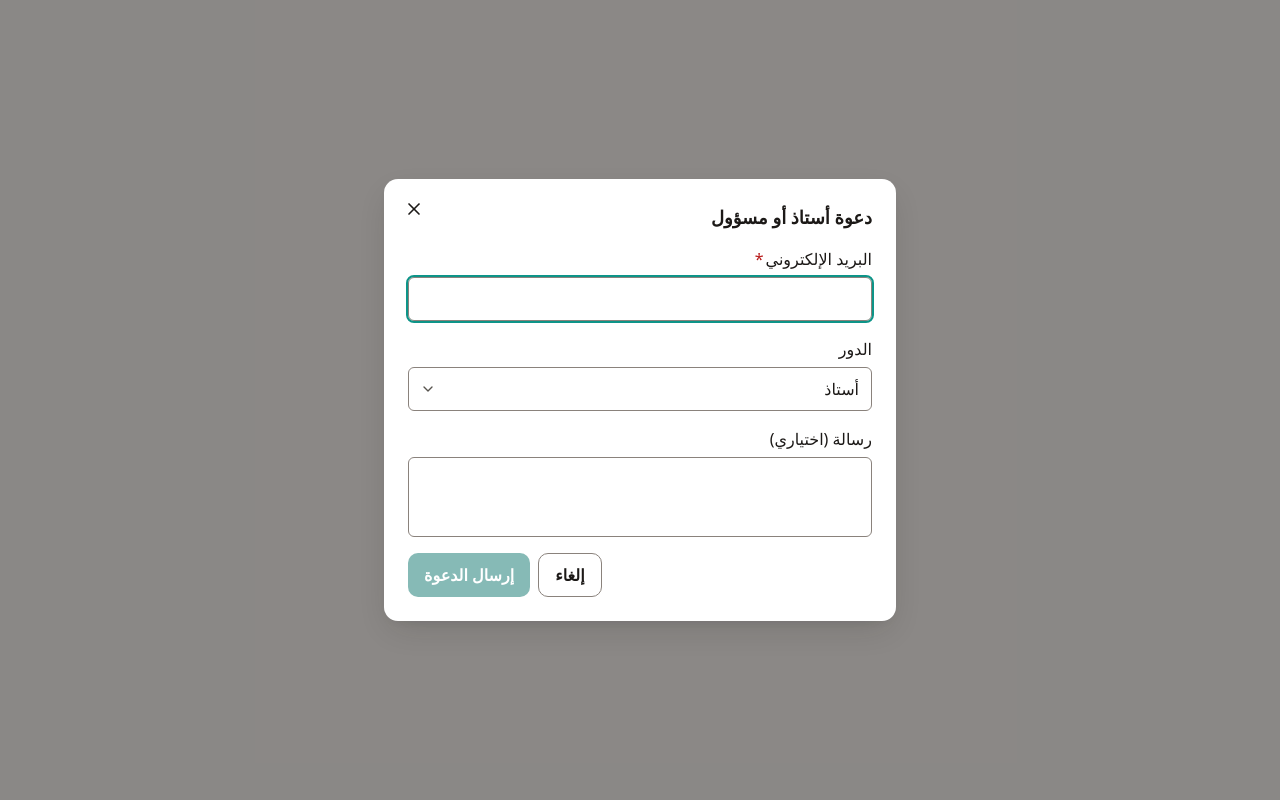
it: InviteStaffDialog › a 403 (no staff management) is a form alert, translated
Step 1. Type "sara@example.com" into the field labelled "البريد الإلكتروني" → (640, 299), box [408,277,872,321]
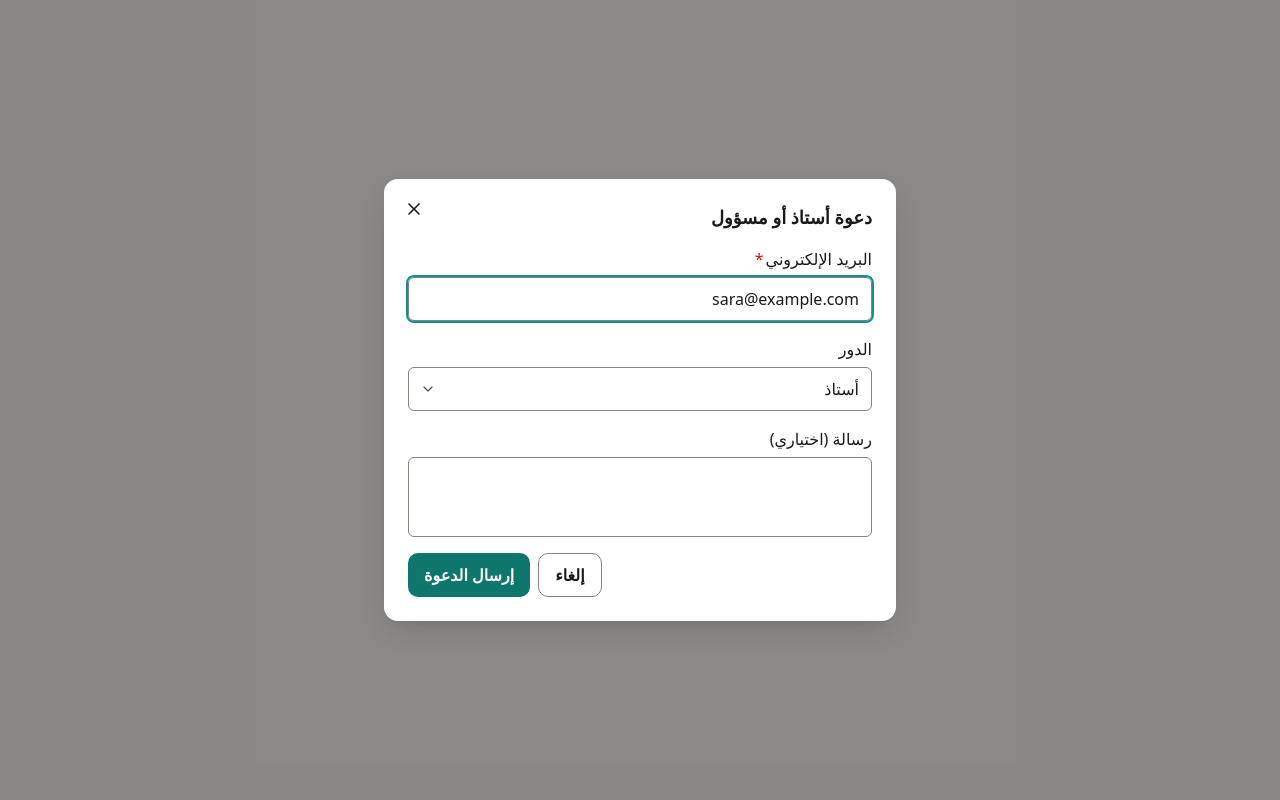
Step 2. Click the button "إرسال الدعوة" → (469, 575), box [408,553,530,597]
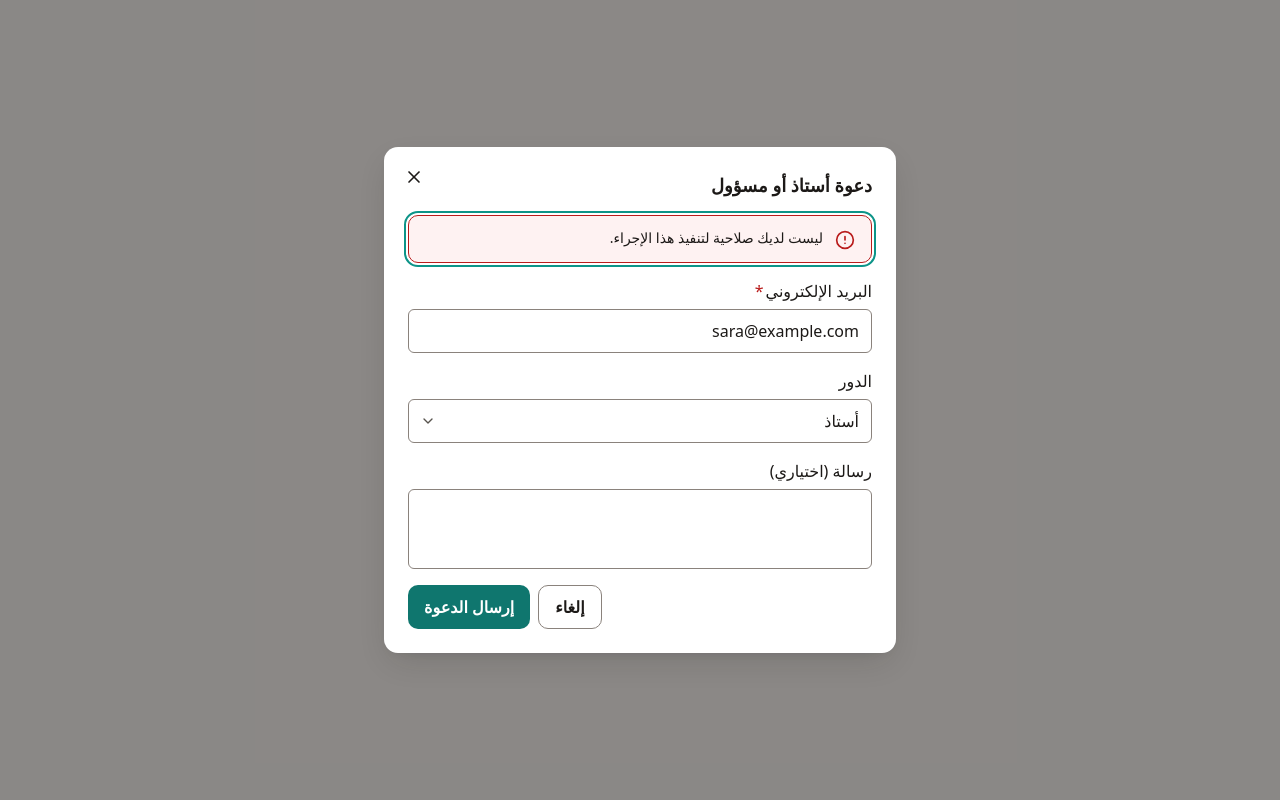
Result: the message reads "ليست لديك صلاحية لتنفيذ هذا الإجراء." at [610,228,823,247]
